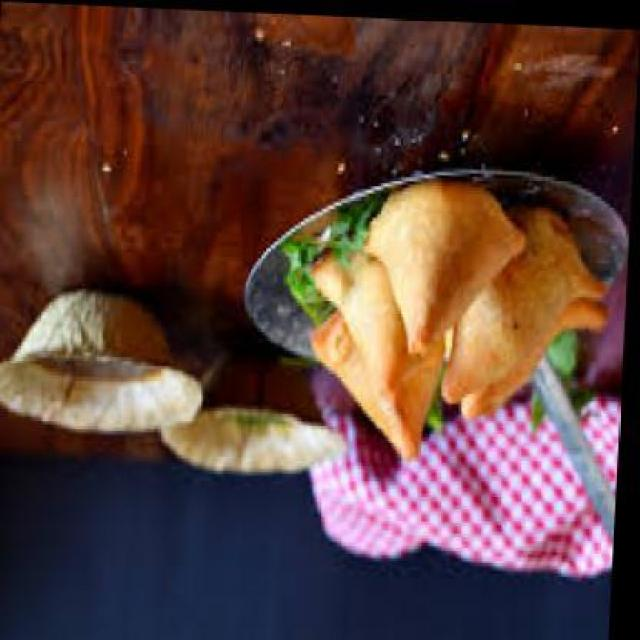samosa: (443, 197, 611, 401), (366, 171, 528, 352), (306, 237, 452, 395), (309, 304, 449, 456), (462, 286, 609, 422)
